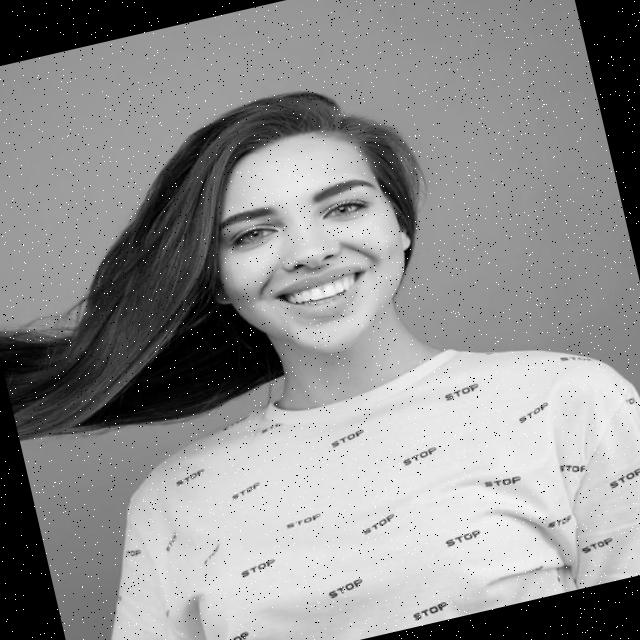Happiness: (188, 110, 428, 380)
